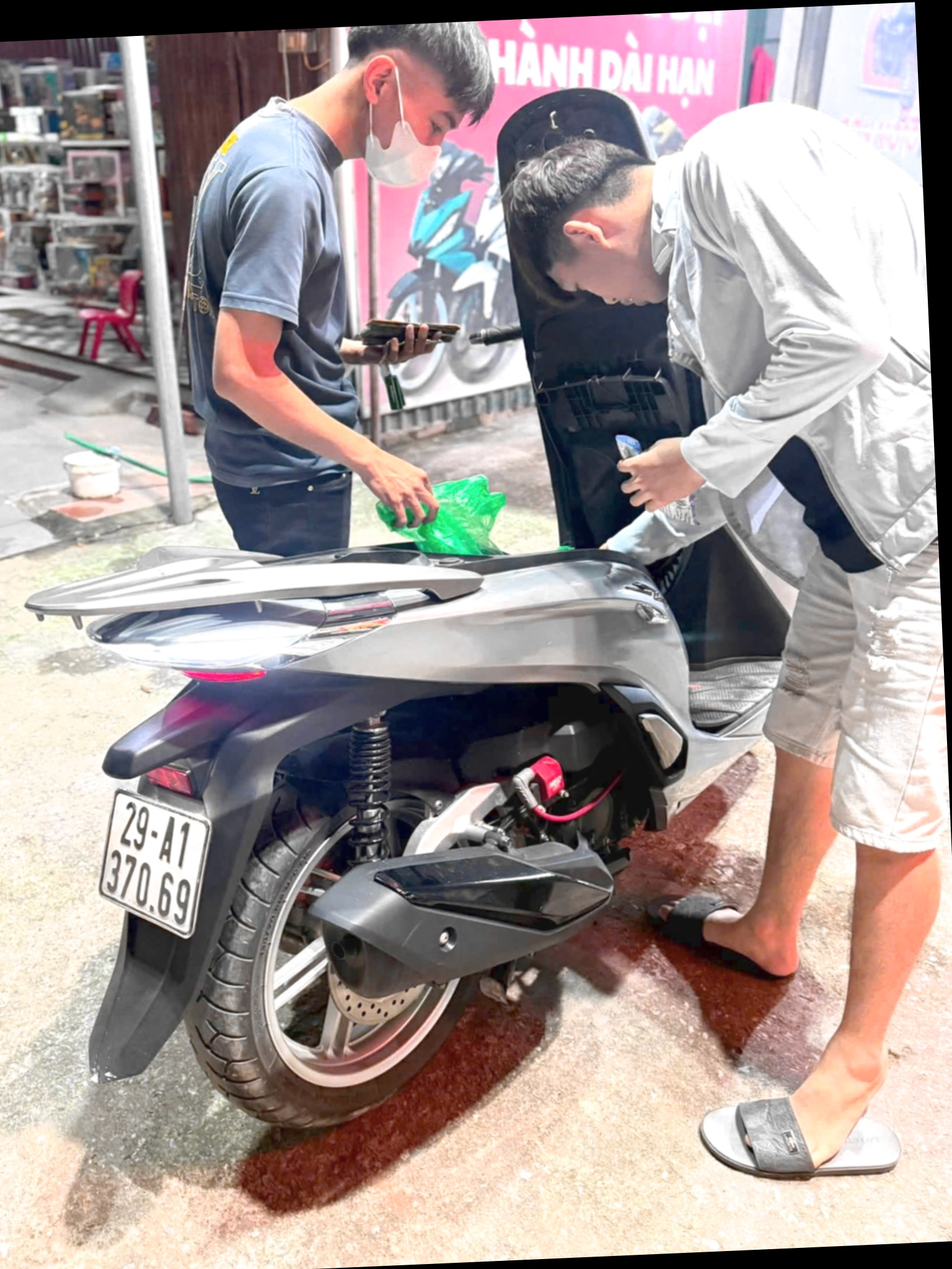Bien-so: (116, 758, 239, 908)
